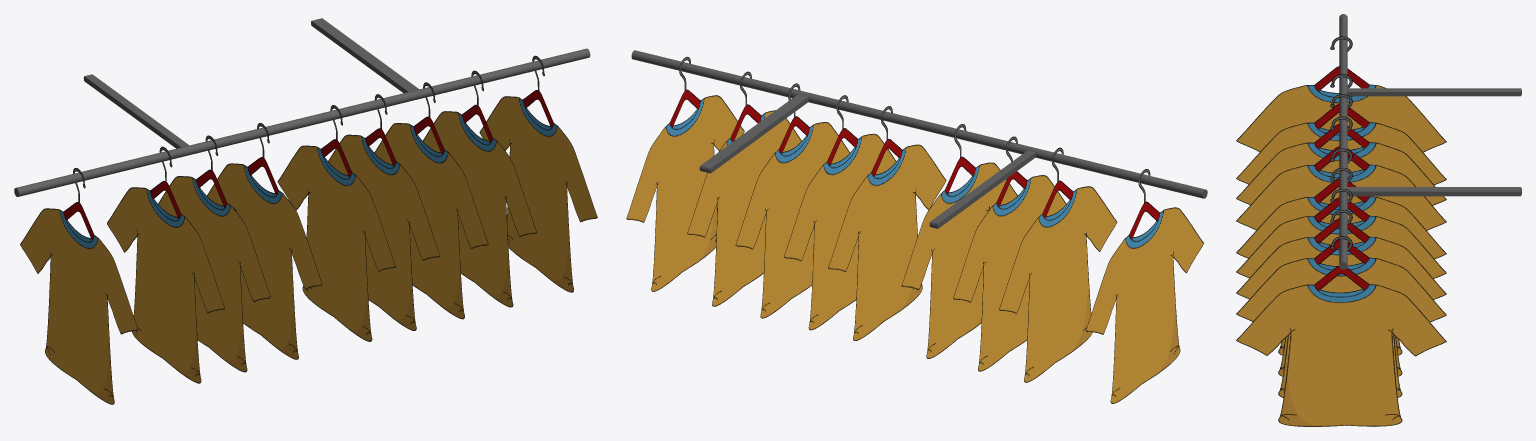
The model's file is geo_clothesRackRobe_01.fbx.
The picture shows the model from 3 angles, left to right: view 1: azimuth 30°, elevation 25°; view 2: azimuth 150°, elevation 25°; view 3: azimuth 270°, elevation 25°; orthographic projection. The views are drawn at different scales.
Parts seen in each view (by area): view 1: geo_shirt_010, geo_shirt_04, geo_shirt_07, geo_shirt_012, geo_shirt_06, geo_shirt_011, geo_shirt_09, geo_shirt_05, geo_shirt_08, geo_clothesRackBar_01; view 2: geo_shirt_010, geo_shirt_04, geo_shirt_07, geo_shirt_012, geo_shirt_09, geo_shirt_05, geo_shirt_06, geo_clothesRackBar_01, geo_shirt_08, geo_shirt_011; view 3: geo_shirt_012, geo_shirt_010, geo_shirt_011, geo_shirt_06, geo_clothesRackBar_01, geo_shirt_09, geo_shirt_08, geo_shirt_05, geo_shirt_04, geo_shirt_07.
Part boxes in pixels (box(x1,y1,x2,y2)): geo_shirt_010: box(20, 168, 138, 404); geo_shirt_04: box(107, 146, 224, 383); geo_shirt_07: box(277, 105, 395, 341); geo_shirt_012: box(479, 55, 597, 292); geo_shirt_06: box(207, 123, 322, 359); geo_shirt_011: box(423, 70, 536, 307); geo_shirt_09: box(374, 82, 488, 319); geo_shirt_05: box(158, 135, 270, 372); geo_shirt_08: box(328, 94, 440, 330); geo_clothesRackBar_01: box(14, 18, 590, 196); geo_shirt_010: box(1085, 169, 1203, 403); geo_shirt_04: box(999, 147, 1117, 382); geo_shirt_07: box(828, 106, 946, 340); geo_shirt_012: box(626, 56, 744, 291); geo_shirt_09: box(735, 83, 849, 318); geo_shirt_05: box(953, 136, 1066, 371); geo_shirt_06: box(901, 124, 1017, 358); geo_clothesRackBar_01: box(631, 50, 1207, 228); geo_shirt_08: box(784, 95, 896, 330); geo_shirt_011: box(687, 71, 801, 306); geo_shirt_012: box(1236, 236, 1446, 426); geo_shirt_010: box(1236, 36, 1446, 152); geo_shirt_011: box(1236, 209, 1446, 397); geo_shirt_06: box(1236, 116, 1446, 230); geo_clothesRackBar_01: box(1339, 14, 1521, 269); geo_shirt_09: box(1236, 188, 1446, 376); geo_shirt_08: box(1236, 167, 1446, 355); geo_shirt_05: box(1236, 94, 1446, 205); geo_shirt_04: box(1236, 74, 1446, 184); geo_shirt_07: box(1236, 148, 1446, 258).
Size of the model in its own units: 99.84 by 35.79 by 48.56.
2 materials, 1 textured.
